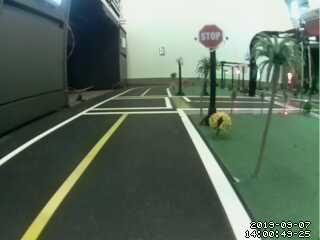Stop_Sign: (193, 22, 232, 55)
